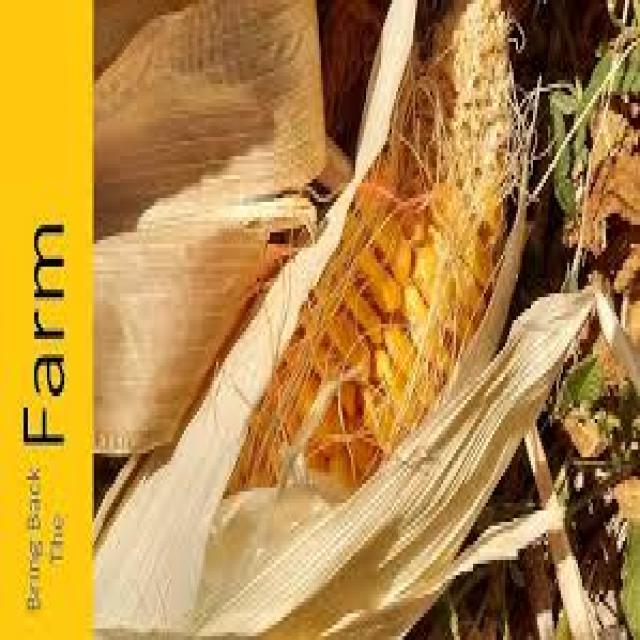purecorn: (246, 138, 536, 508)
